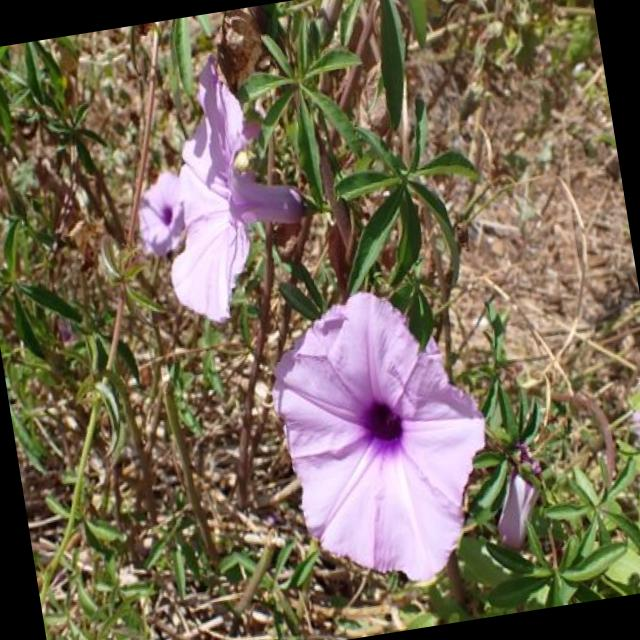ipomoea: (254, 272, 512, 605), (126, 44, 324, 336)
